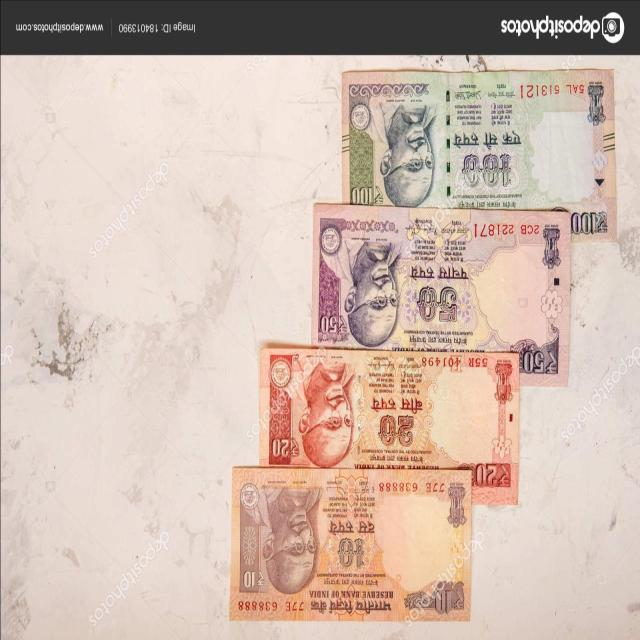50IndianRupees: (312, 210, 571, 384)
